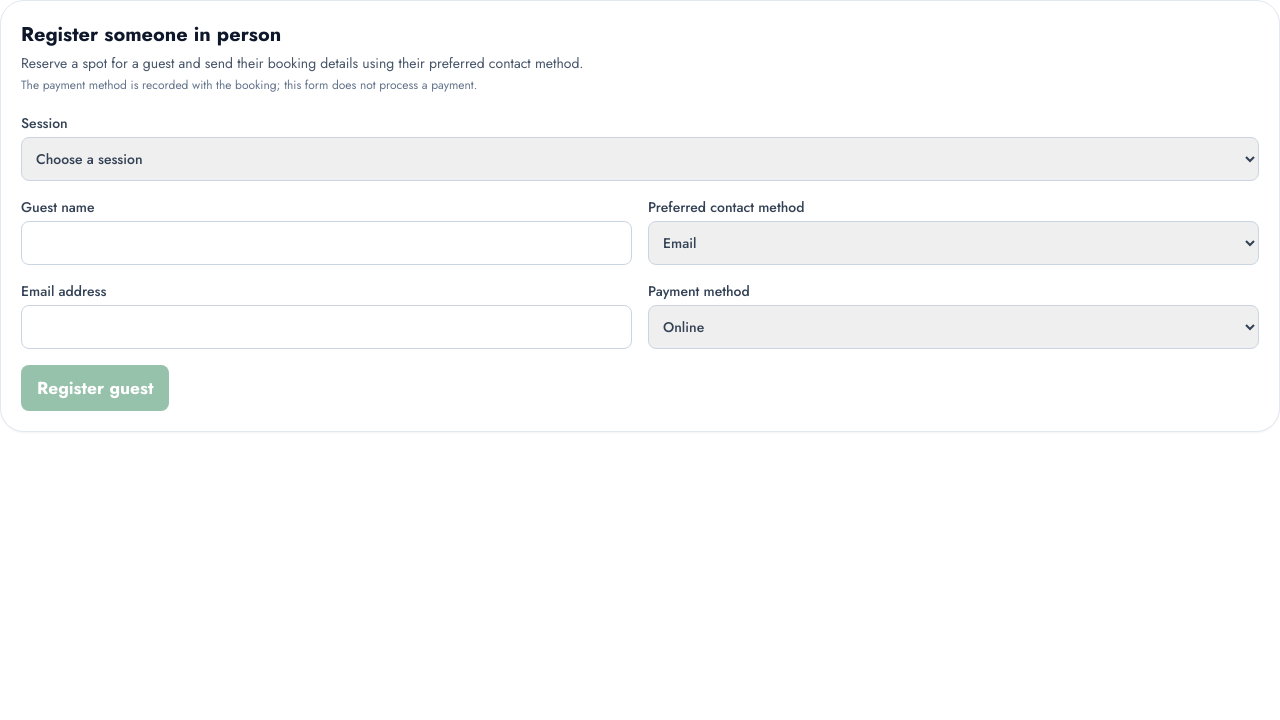
Test: ManualBookingPanel › registers a guest, records the payment method, and shows the email delivery result
Select "Harbor Tour — 6/1/2099, 10:00:00 AM (5 spots left)" in the dropdown labelled "Session": (640, 159) [21, 137, 1259, 181]
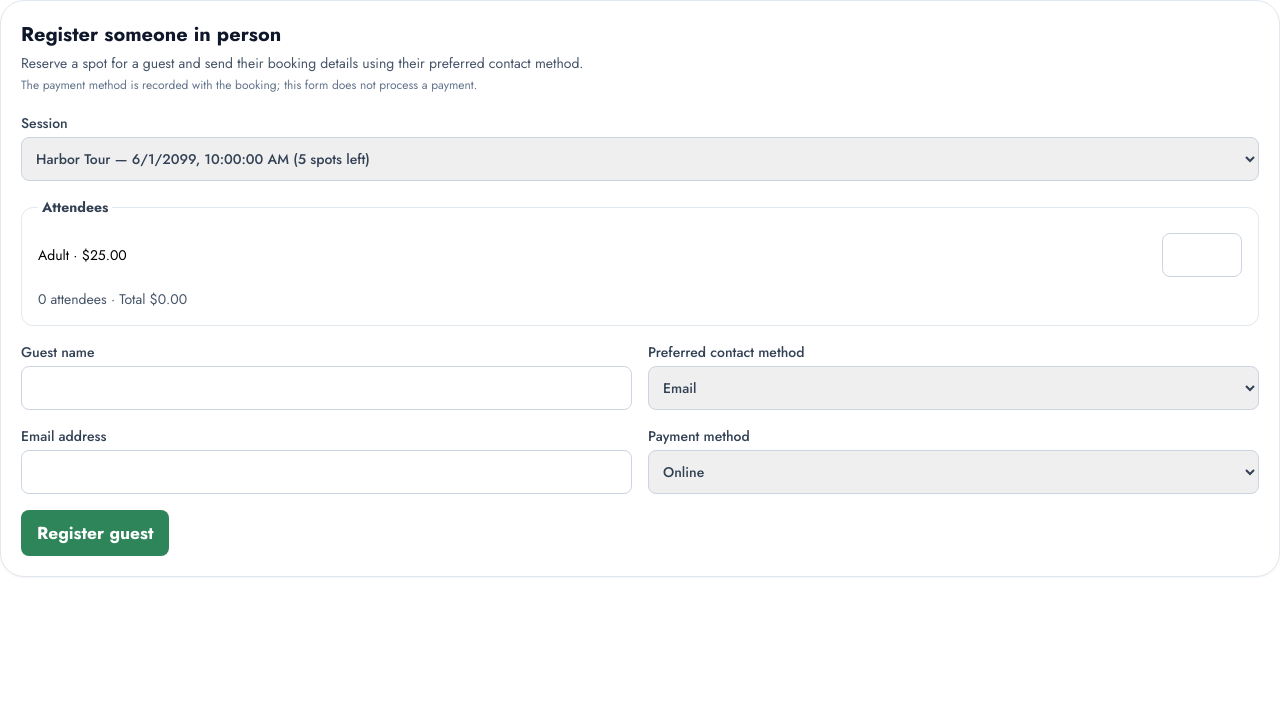
In the number field named "Adult quantity": (1202, 255) [1162, 233, 1242, 277], type "2"
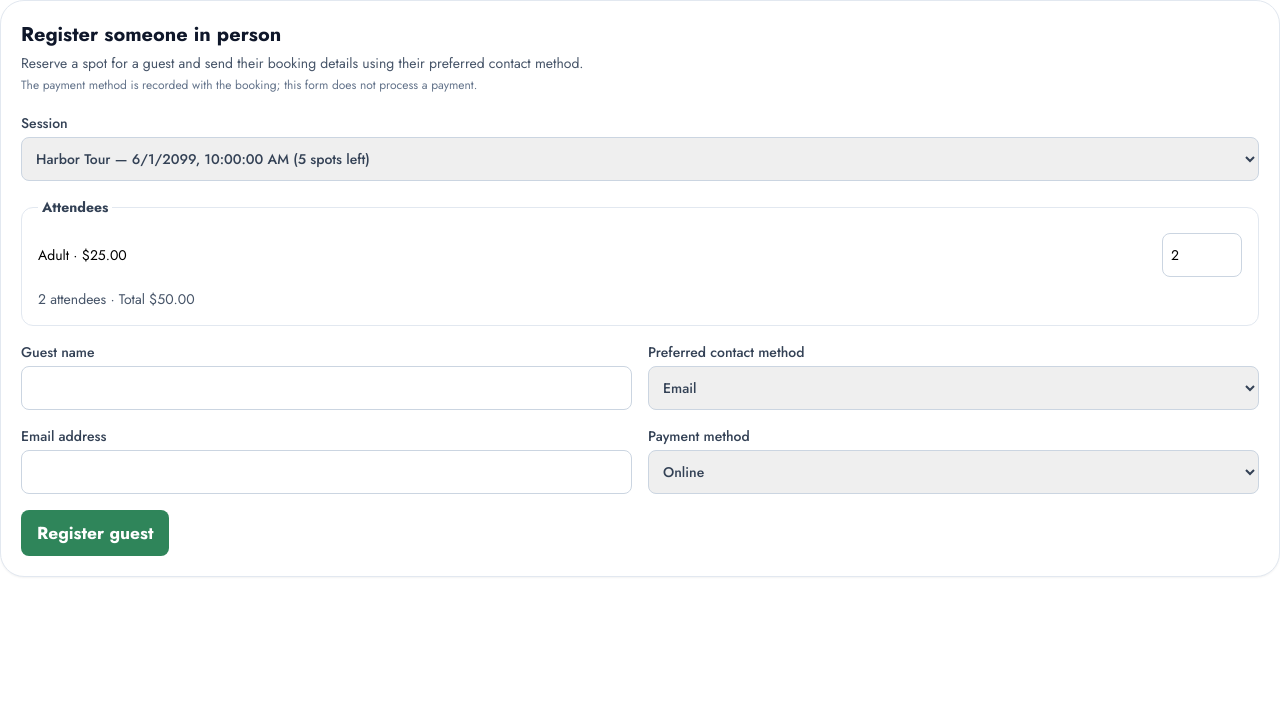
In the field labelled "Guest name": (326, 388) [21, 366, 632, 410], type "Guest Person"
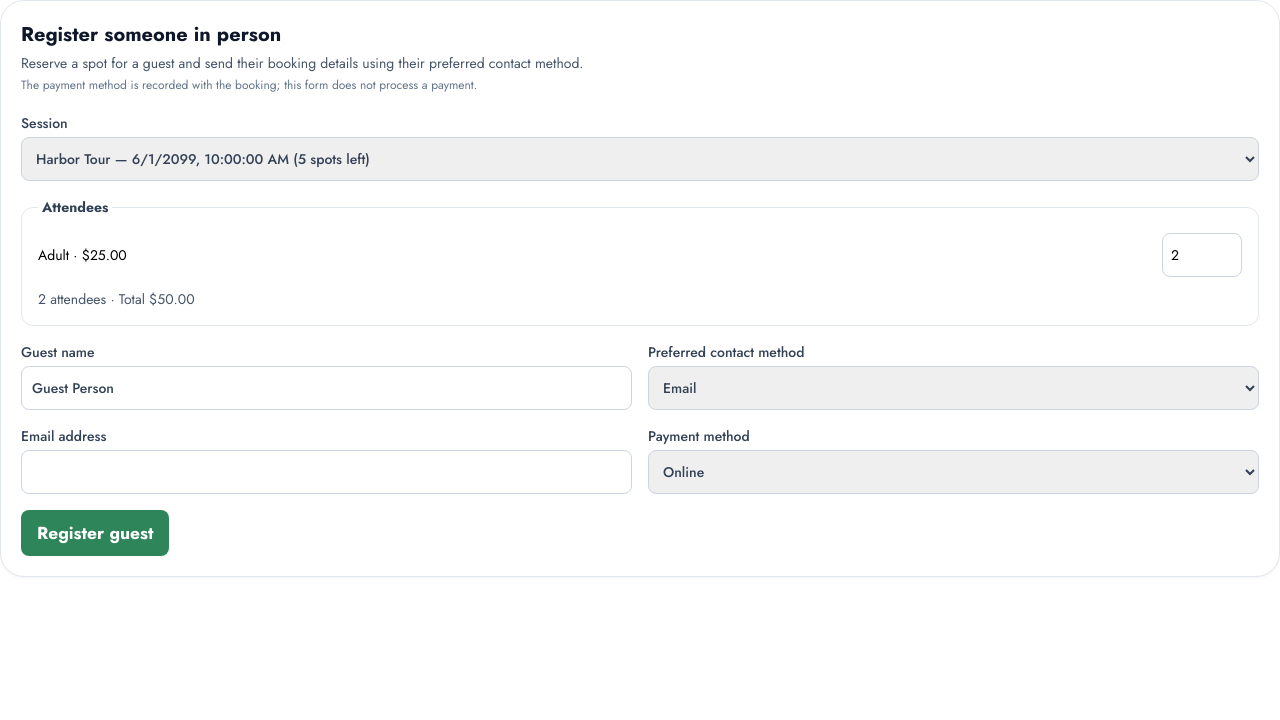
In the field labelled "Email address": (326, 472) [21, 450, 632, 494], type "guest@example.test"
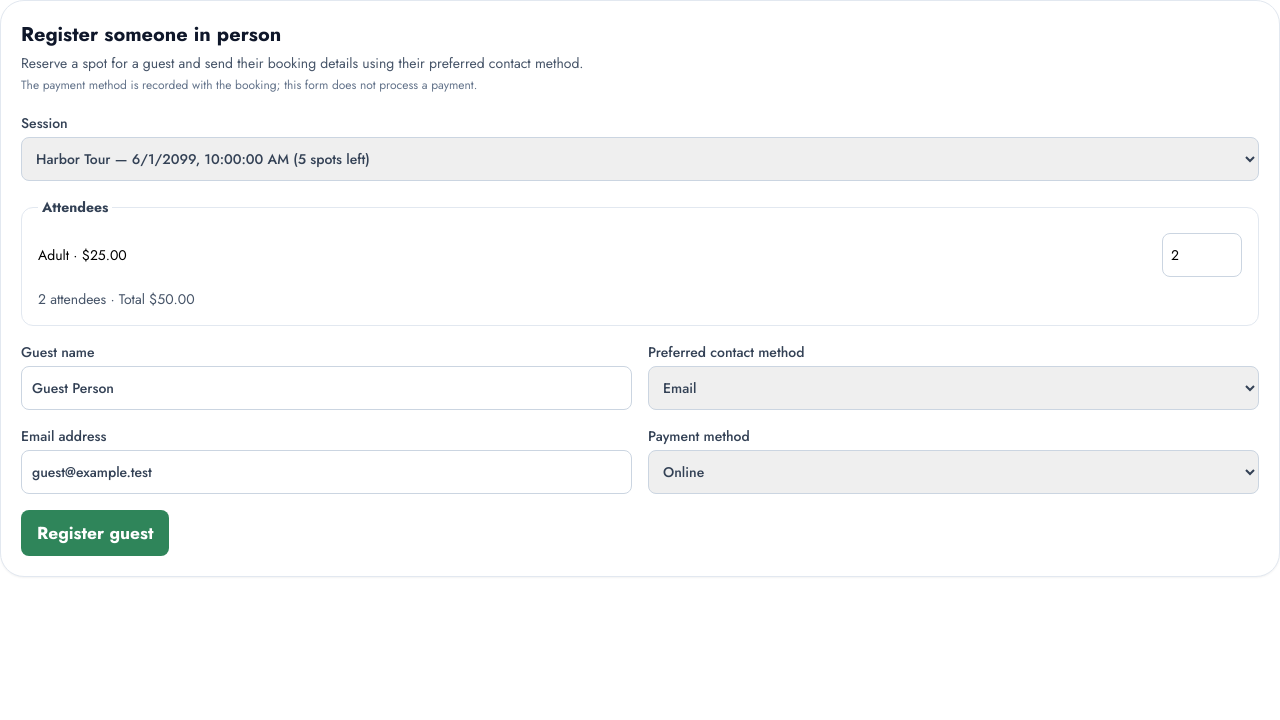
Select "In person" in the dropdown labelled "Payment method": (954, 472) [648, 450, 1259, 494]
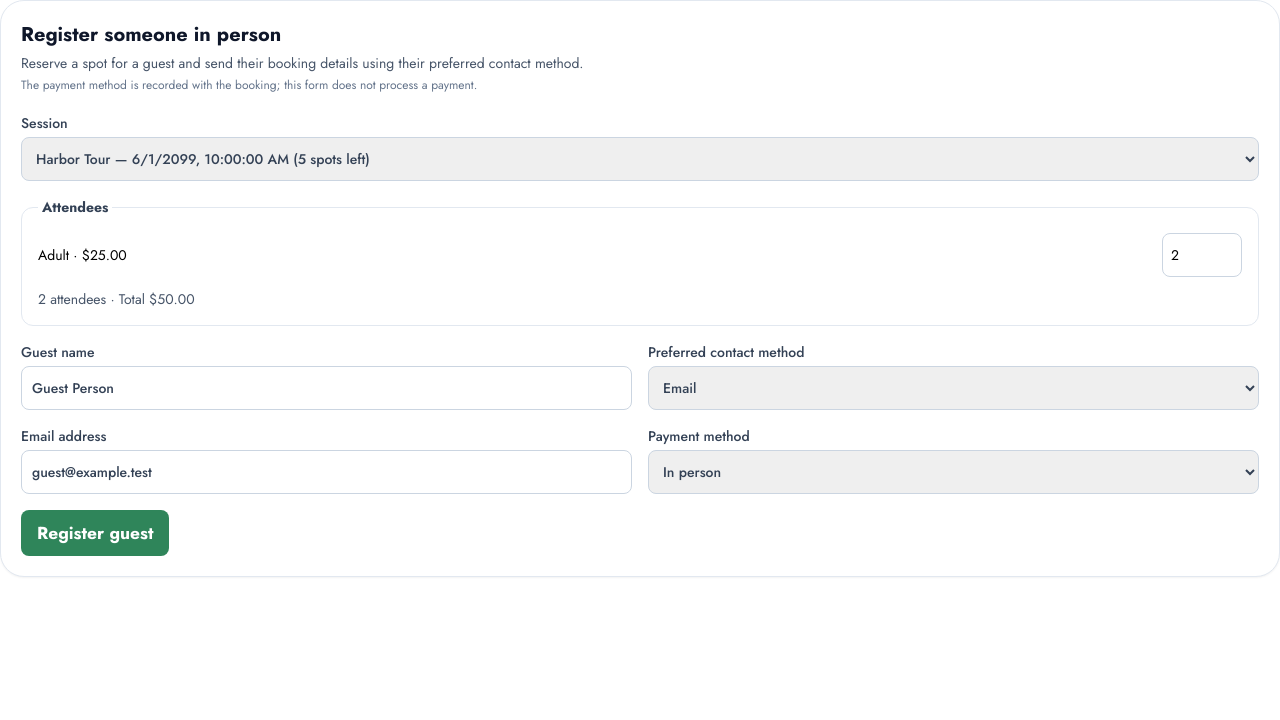
Click the button "Register guest": (95, 533) [21, 510, 170, 556]
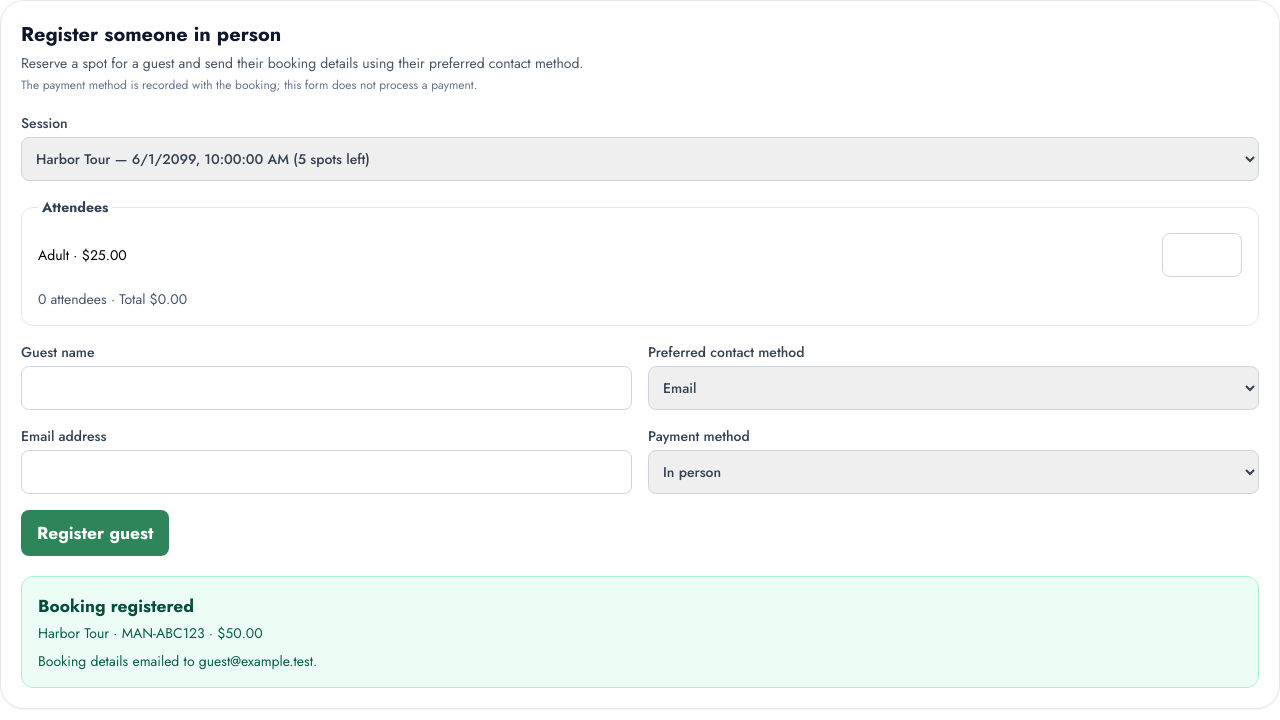
Result: the text "Booking details emailed to guest@example.test." is shown at [38, 651, 317, 671]
